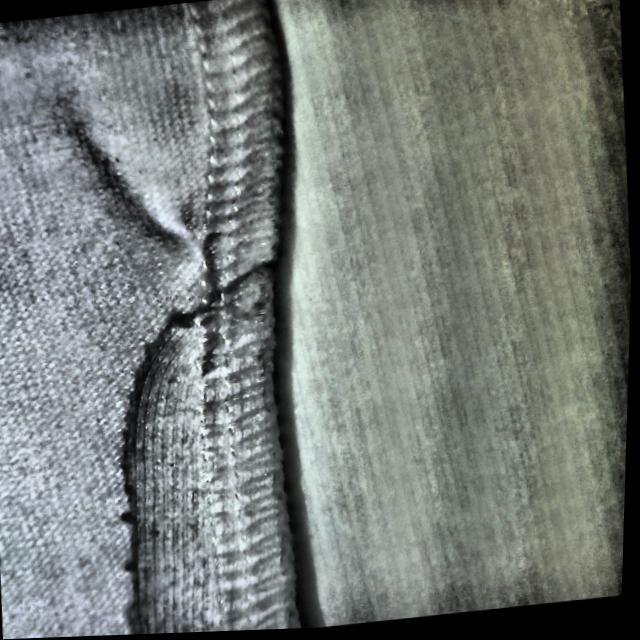seam: (56, 299, 311, 638)
